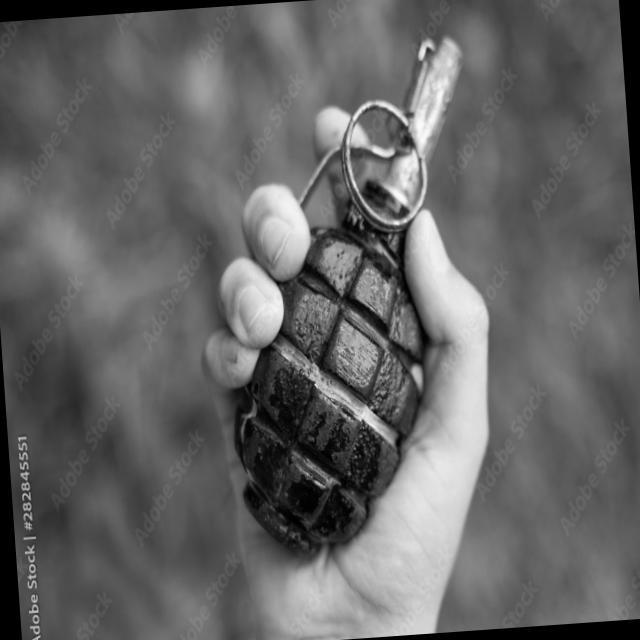grenade: (202, 34, 503, 564)
